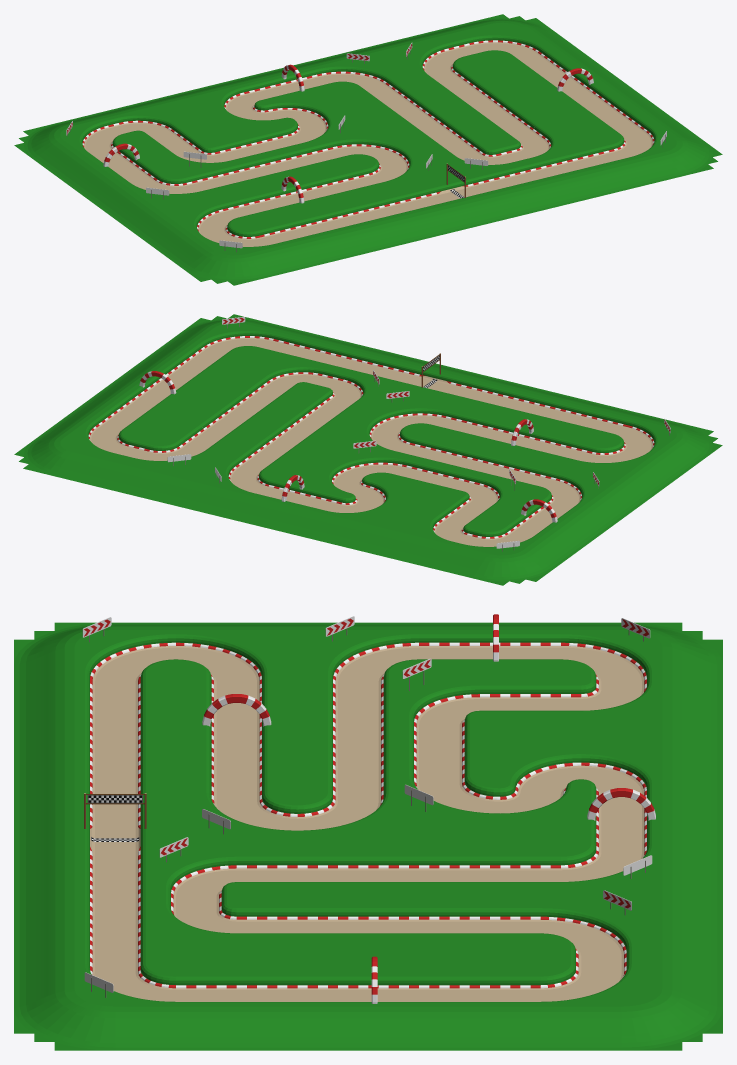
File: track_2a.glb
The picture shows the model from 3 angles, top to bottom: view 1: azimuth 30°, elevation 25°; view 2: azimuth 150°, elevation 25°; view 3: azimuth 270°, elevation 25°; orthographic projection. The views are drawn at different scales.
Visible parts, largest first — view 1: Terrain_Hill_Side_1x3 (×13), Terrain_Grass_Flat_1x1 (×15), Track_Striped_Curve_Double_5x5 (×11), Track_Striped_Curve_Double_4x4 (×7), Terrain_Hill_Corner_Outer_5x5 (×4); view 2: Terrain_Hill_Side_1x3 (×19), Terrain_Grass_Flat_1x1 (×15), Track_Striped_Curve_Double_5x5 (×11), Track_Striped_Curve_Double_4x4 (×7), Terrain_Hill_Corner_Outer_5x5 (×4); view 3: Track_Striped_Straight_Double (×123), Terrain_Hill_Side_1x3 (×20), Terrain_Grass_Flat_1x1 (×22), Track_Striped_Curve_Double_5x5 (×11), Track_Striped_Curve_Double_4x4 (×7), Terrain_Hill_Corner_Outer_5x5 (×4), Prop_Track_Arch_1x4 (×2), Track_Striped_End_Straight_Double_2 (×2), Prop_Track_Banner_Finish_Line_Double, Track_Standard_Finish_Line_Double_Checkered.
Boxes of the visible parts, left/top/right/bottom form: Terrain_Hill_Side_1x3 (×13): left=32, top=27, right=704, bottom=277; Terrain_Grass_Flat_1x1 (×15): left=117, top=24, right=619, bottom=230; Track_Striped_Curve_Double_5x5 (×11): left=64, top=28, right=673, bottom=253; Track_Striped_Curve_Double_4x4 (×7): left=114, top=85, right=565, bottom=169; Terrain_Hill_Corner_Outer_5x5 (×4): left=14, top=14, right=722, bottom=285; Terrain_Hill_Side_1x3 (×19): left=32, top=327, right=704, bottom=577; Terrain_Grass_Flat_1x1 (×15): left=72, top=347, right=619, bottom=538; Track_Striped_Curve_Double_5x5 (×11): left=69, top=324, right=672, bottom=553; Track_Striped_Curve_Double_4x4 (×7): left=262, top=362, right=513, bottom=543; Terrain_Hill_Corner_Outer_5x5 (×4): left=14, top=314, right=722, bottom=585; Track_Striped_Straight_Double (×123): left=74, top=630, right=662, bottom=1006; Terrain_Hill_Side_1x3 (×20): left=14, top=622, right=722, bottom=1050; Terrain_Grass_Flat_1x1 (×22): left=155, top=630, right=662, bottom=989; Track_Striped_Curve_Double_5x5 (×11): left=74, top=630, right=662, bottom=1006; Track_Striped_Curve_Double_4x4 (×7): left=155, top=681, right=662, bottom=937; Terrain_Hill_Corner_Outer_5x5 (×4): left=14, top=622, right=722, bottom=1050; Prop_Track_Arch_1x4 (×2): left=202, top=694, right=655, bottom=820; Track_Striped_End_Straight_Double_2 (×2): left=74, top=818, right=155, bottom=852; Prop_Track_Banner_Finish_Line_Double: left=84, top=793, right=146, bottom=828; Track_Standard_Finish_Line_Double_Checkered: left=74, top=826, right=155, bottom=844.
Size of the model in its own units: 50 by 2.9 by 35.
